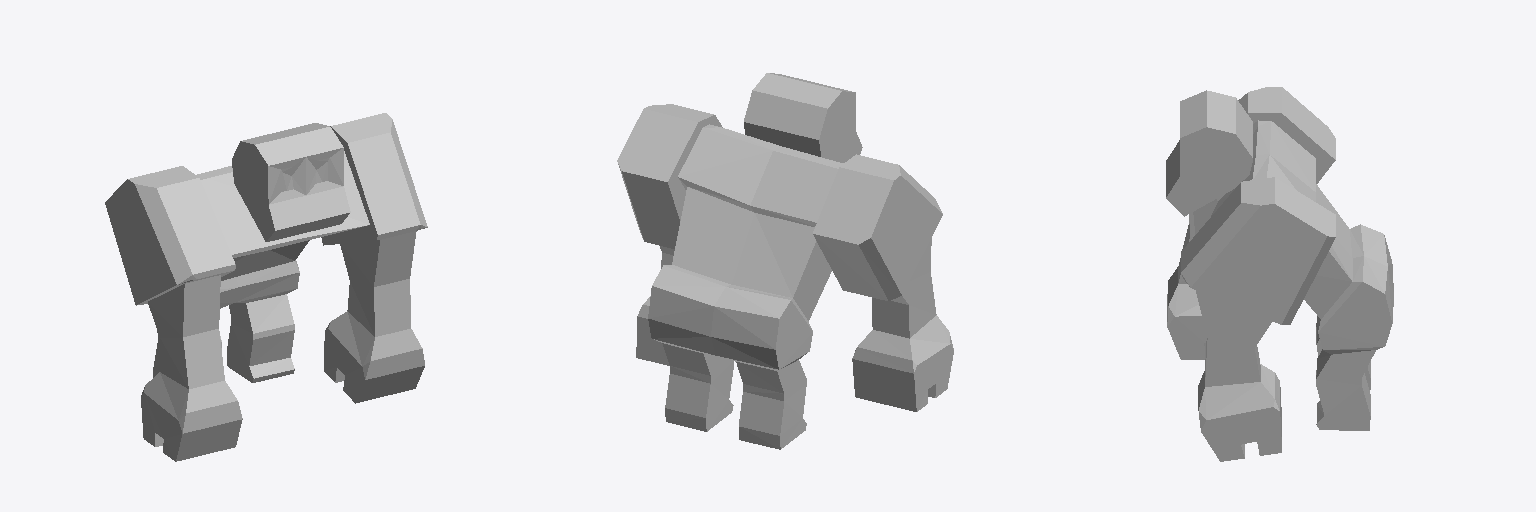
Rendered from kong_000003.obj.
3 views of the same model, side by side, from view 1: azimuth 30°, elevation 25°; view 2: azimuth 150°, elevation 25°; view 3: azimuth 270°, elevation 25° (orthographic).
Visible parts, largest first — view 1: Cube; view 2: Cube; view 3: Cube.
Part boxes in pixels (x1,y1,x2,y2): Cube: (105,113,427,461); Cube: (617,73,953,449); Cube: (1166,87,1393,461).
Size of the model in its own units: 5.84 by 6.29 by 4.42.